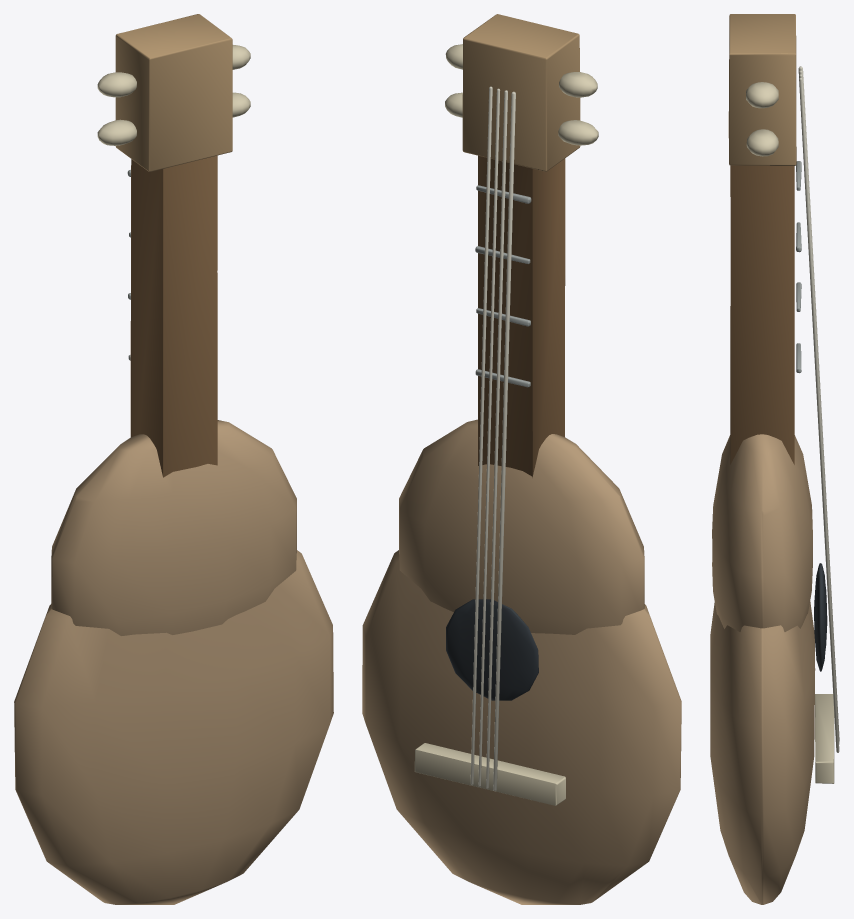
The model's file is guitar.glb.
3 renders of one model, left to right at view 1: azimuth 30°, elevation 25°; view 2: azimuth 150°, elevation 25°; view 3: azimuth 270°, elevation 25°, orthographic.
Bounding box in the file's own units: 0.3802 × 0.99 × 0.1354.
